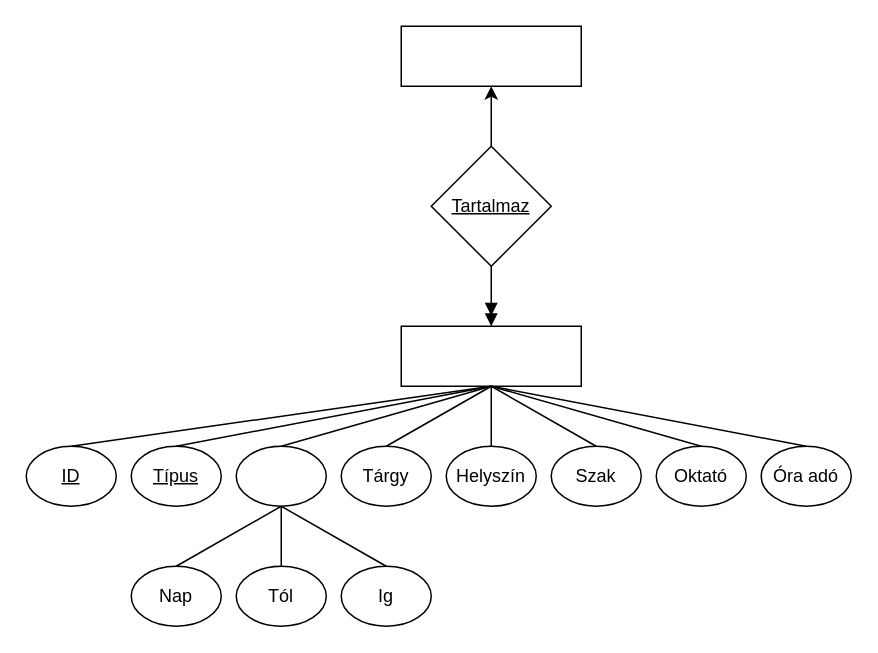
The diagram is 878 pixels wide and 653 high, and some of its shapes have lost their labels. Here are the shapes that lost their labels. From the top down, the centre of each, then its label:
pixel 490 55: Órarend
pixel 490 355: Óra
pixel 280 475: Időpont
